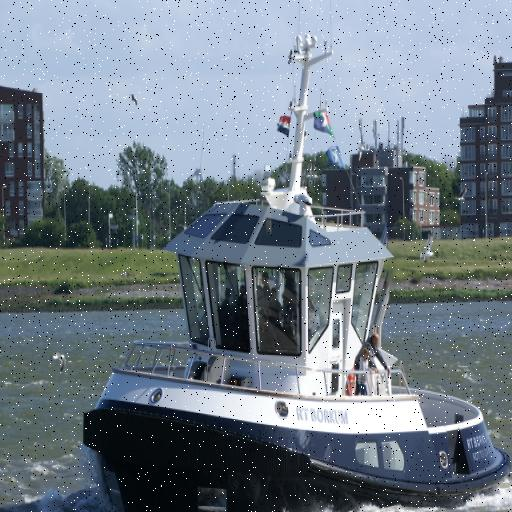tugboat: (78, 32, 512, 512)
